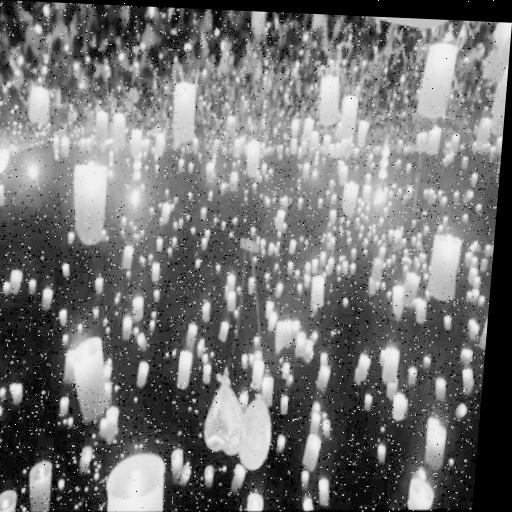balloon: (198, 379, 246, 458), (234, 399, 271, 471)
